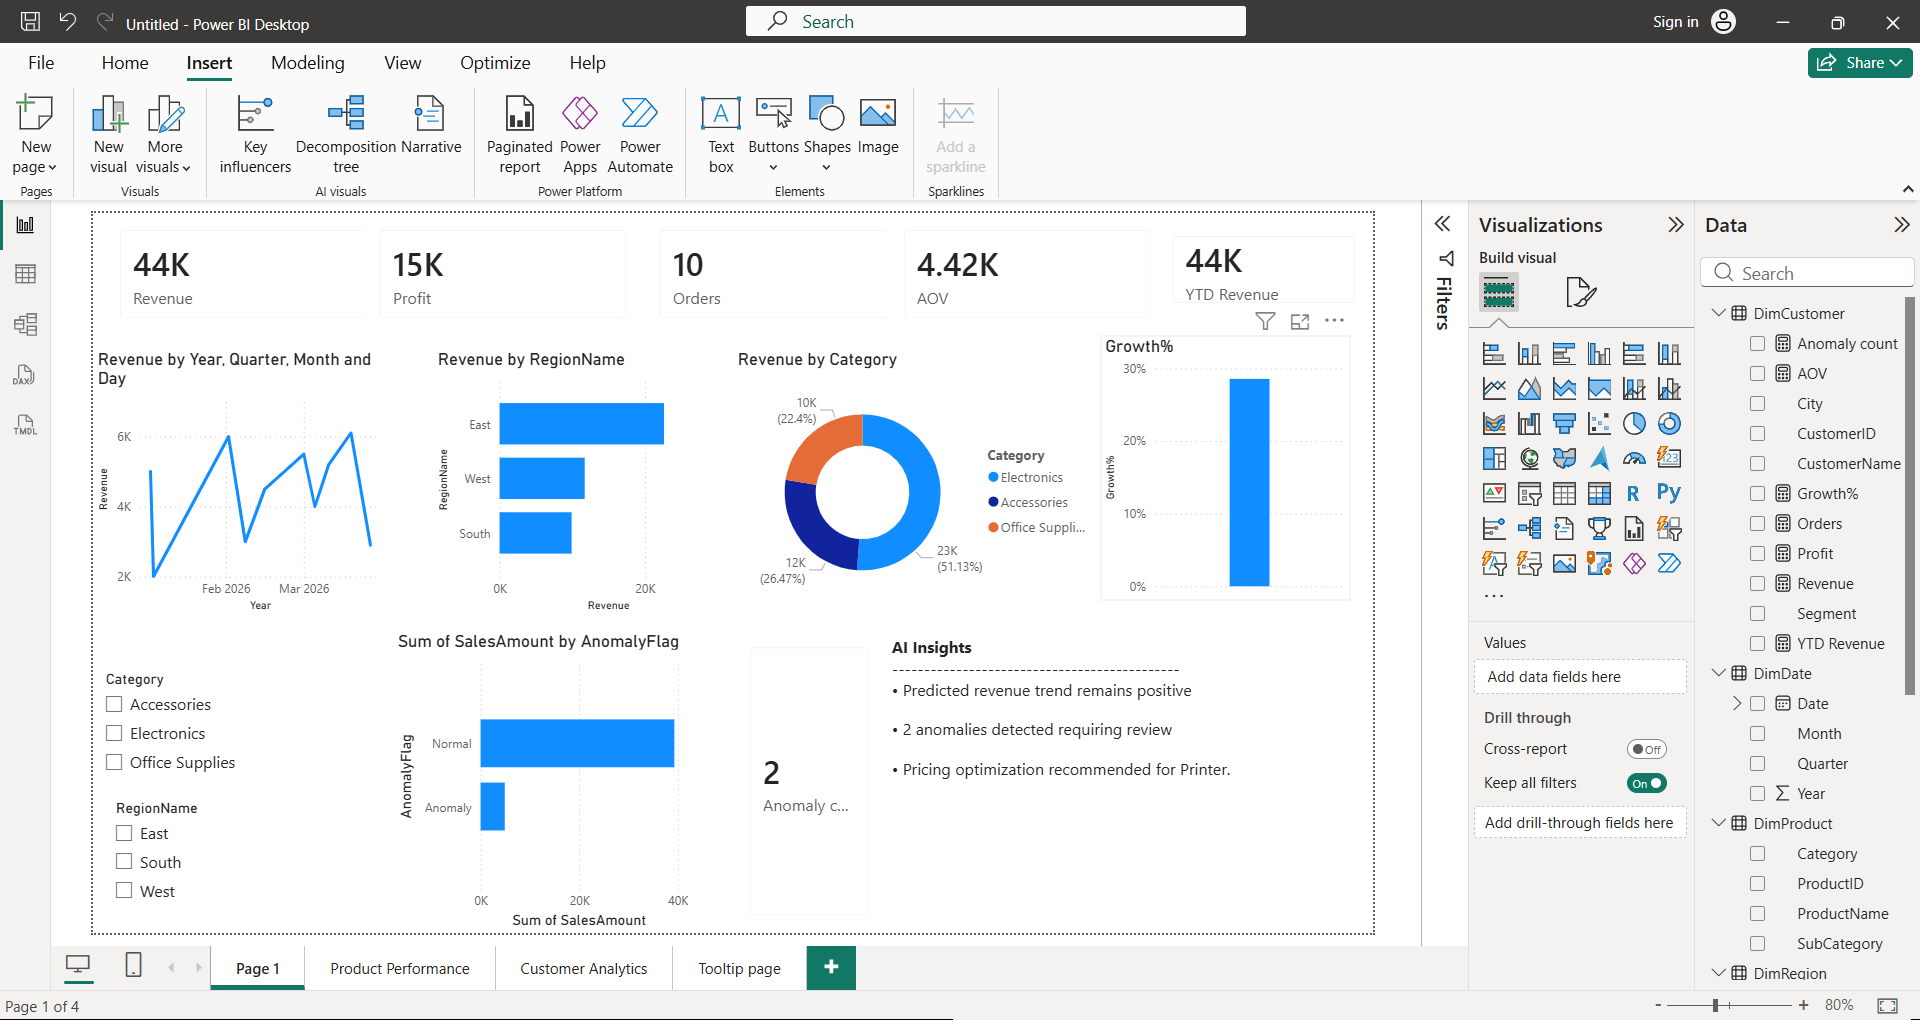

Layout of this report page (visuals, bound fields, positions):
{"tool":"powerbi","page":{"name":"Page 1","canvas":[1280,720],"ordinal":0},"visuals":[{"type":"cardVisual","fields":{"Data":["DimCustomer.Revenue","DimCustomer.Revenue"]},"box":[10,0,280,122],"z":0},{"type":"cardVisual","fields":{"Data":["DimCustomer.Profit"]},"box":[270,0,280,122],"z":1000},{"type":"cardVisual","fields":{"Data":["DimCustomer.Orders"]},"box":[550,0,280,122],"z":2000},{"type":"cardVisual","fields":{"Data":["DimCustomer.AOV"]},"box":[794,0,280,122],"z":3000},{"type":"lineChart","fields":{"Category":["DimDate.Date.Variation.Date Hierarchy.Year","DimDate.Date.Variation.Date Hierarchy.Quarter","DimDate.Date.Variation.Date Hierarchy.Month","DimDate.Date.Variation.Date Hierarchy.Day"],"Y":["DimCustomer.Revenue"]},"box":[0,136.2,308.8,267.5],"z":4000},{"type":"clusteredBarChart","fields":{"Category":["DimRegion.RegionName"],"Y":["DimCustomer.Revenue"]},"box":[340,136.2,300,267.5],"z":5000},{"type":"donutChart","fields":{"Category":["DimProduct.Category"],"Y":["DimCustomer.Revenue"]},"box":[640,136.2,367.5,267.5],"z":6000},{"type":"slicer","fields":{"Values":["DimRegion.RegionName"]},"box":[10,581.2,367.5,138.8],"z":7000},{"type":"slicer","fields":{"Values":["DimProduct.Category"]},"box":[0,452.5,308.8,128.8],"z":8000},{"type":"cardVisual","fields":{"Data":["DimCustomer.YTD Revenue"]},"box":[1062.5,6.2,217.5,101.2],"z":8001},{"type":"clusteredColumnChart","fields":{"Y":["DimCustomer.Growth%"]},"box":[1007.5,122.5,250,265],"z":8003},{"type":"clusteredBarChart","fields":{"Category":["FactSales.AnomalyFlag"],"Y":["Sum(FactSales.SalesAmount)"]},"box":[300,417.5,300,302.5],"z":8004},{"type":"cardVisual","fields":{"Data":["DimCustomer.Anomaly count"]},"box":[640,417.5,153.8,302.5],"z":8005},{"type":"textbox","box":[793.8,417.5,463.8,198.8],"z":8006}]}

Visuals, with their boxes on the page's 1280x720 design canvas (x1, y1, x2, y2). These are canvas units, not pixel positions in the 1920x1020 screenshot, which may show the page scaled, cropped or inside an application window:
cardVisual - DimCustomer.Revenue x DimCustomer.Revenue: [left=10, top=0, right=290, bottom=122]
cardVisual - DimCustomer.Profit: [left=270, top=0, right=550, bottom=122]
cardVisual - DimCustomer.Orders: [left=550, top=0, right=830, bottom=122]
cardVisual - DimCustomer.AOV: [left=794, top=0, right=1074, bottom=122]
lineChart - DimDate.Date.Variation.Date Hierarchy.Year x DimDate.Date.Variation.Date Hierarchy.Quarter: [left=0, top=136, right=309, bottom=404]
clusteredBarChart - DimRegion.RegionName x DimCustomer.Revenue: [left=340, top=136, right=640, bottom=404]
donutChart - DimProduct.Category x DimCustomer.Revenue: [left=640, top=136, right=1008, bottom=404]
slicer - DimRegion.RegionName: [left=10, top=581, right=378, bottom=720]
slicer - DimProduct.Category: [left=0, top=452, right=309, bottom=581]
cardVisual - DimCustomer.YTD Revenue: [left=1062, top=6, right=1280, bottom=107]
clusteredColumnChart - DimCustomer.Growth%: [left=1008, top=122, right=1258, bottom=388]
clusteredBarChart - FactSales.AnomalyFlag x Sum(FactSales.SalesAmount): [left=300, top=418, right=600, bottom=720]
cardVisual - DimCustomer.Anomaly count: [left=640, top=418, right=794, bottom=720]
textbox: [left=794, top=418, right=1258, bottom=616]
